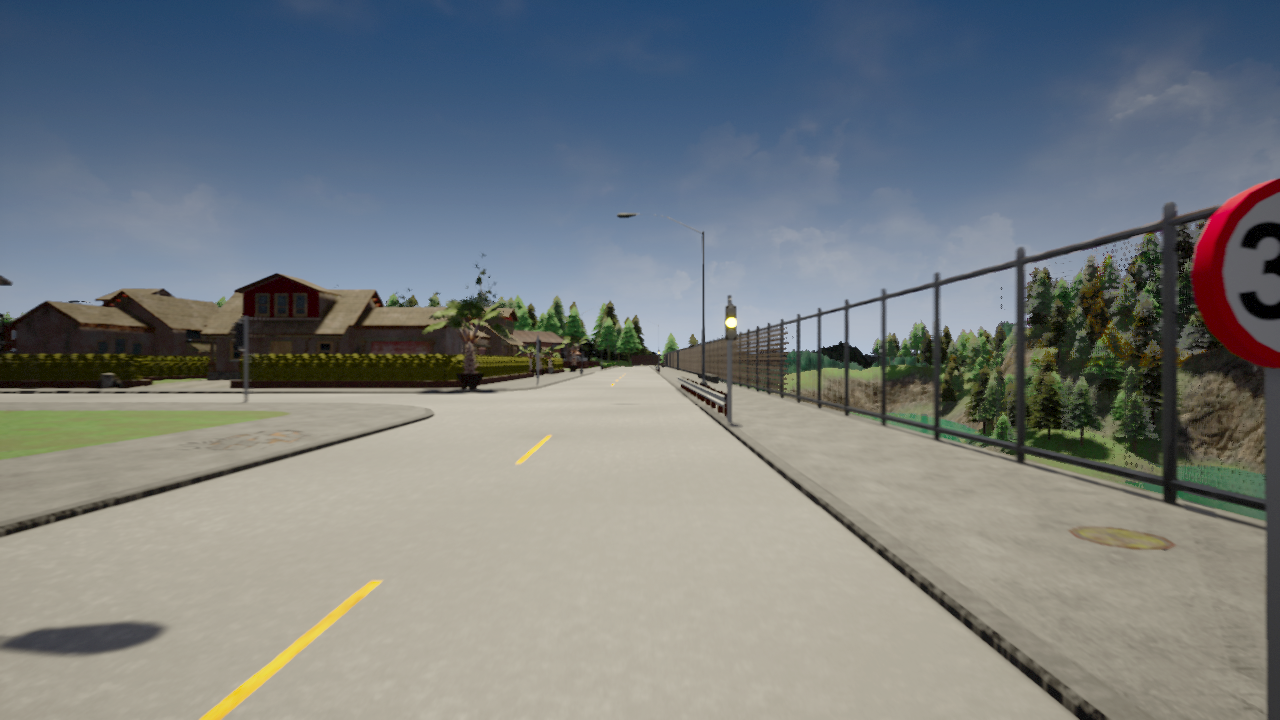yellow: (724, 305, 738, 341)
